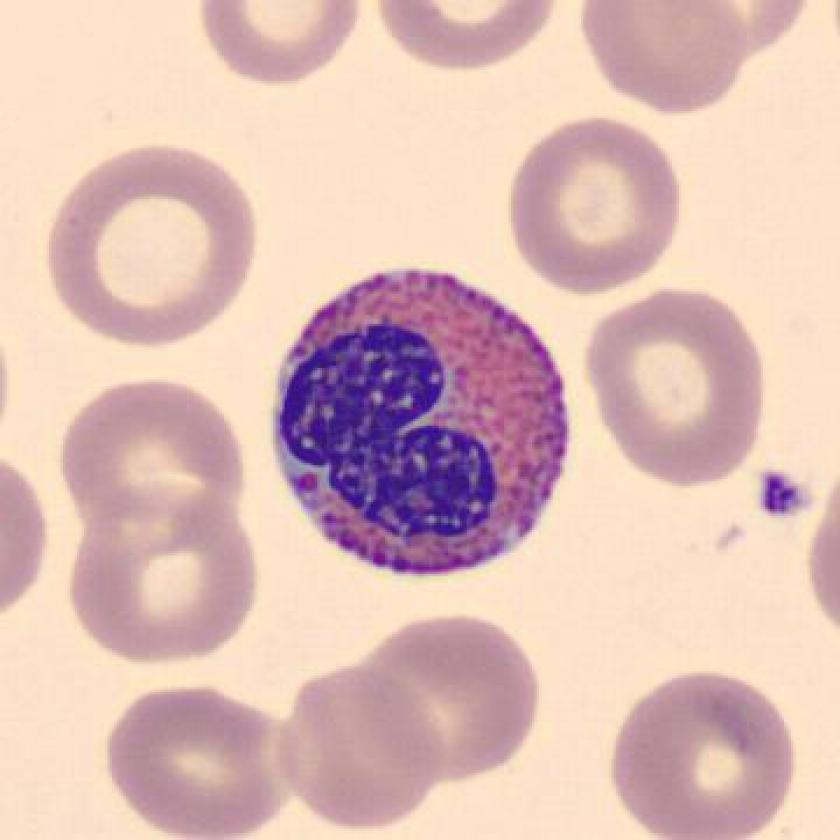eosinophil: (265, 251, 577, 591)
